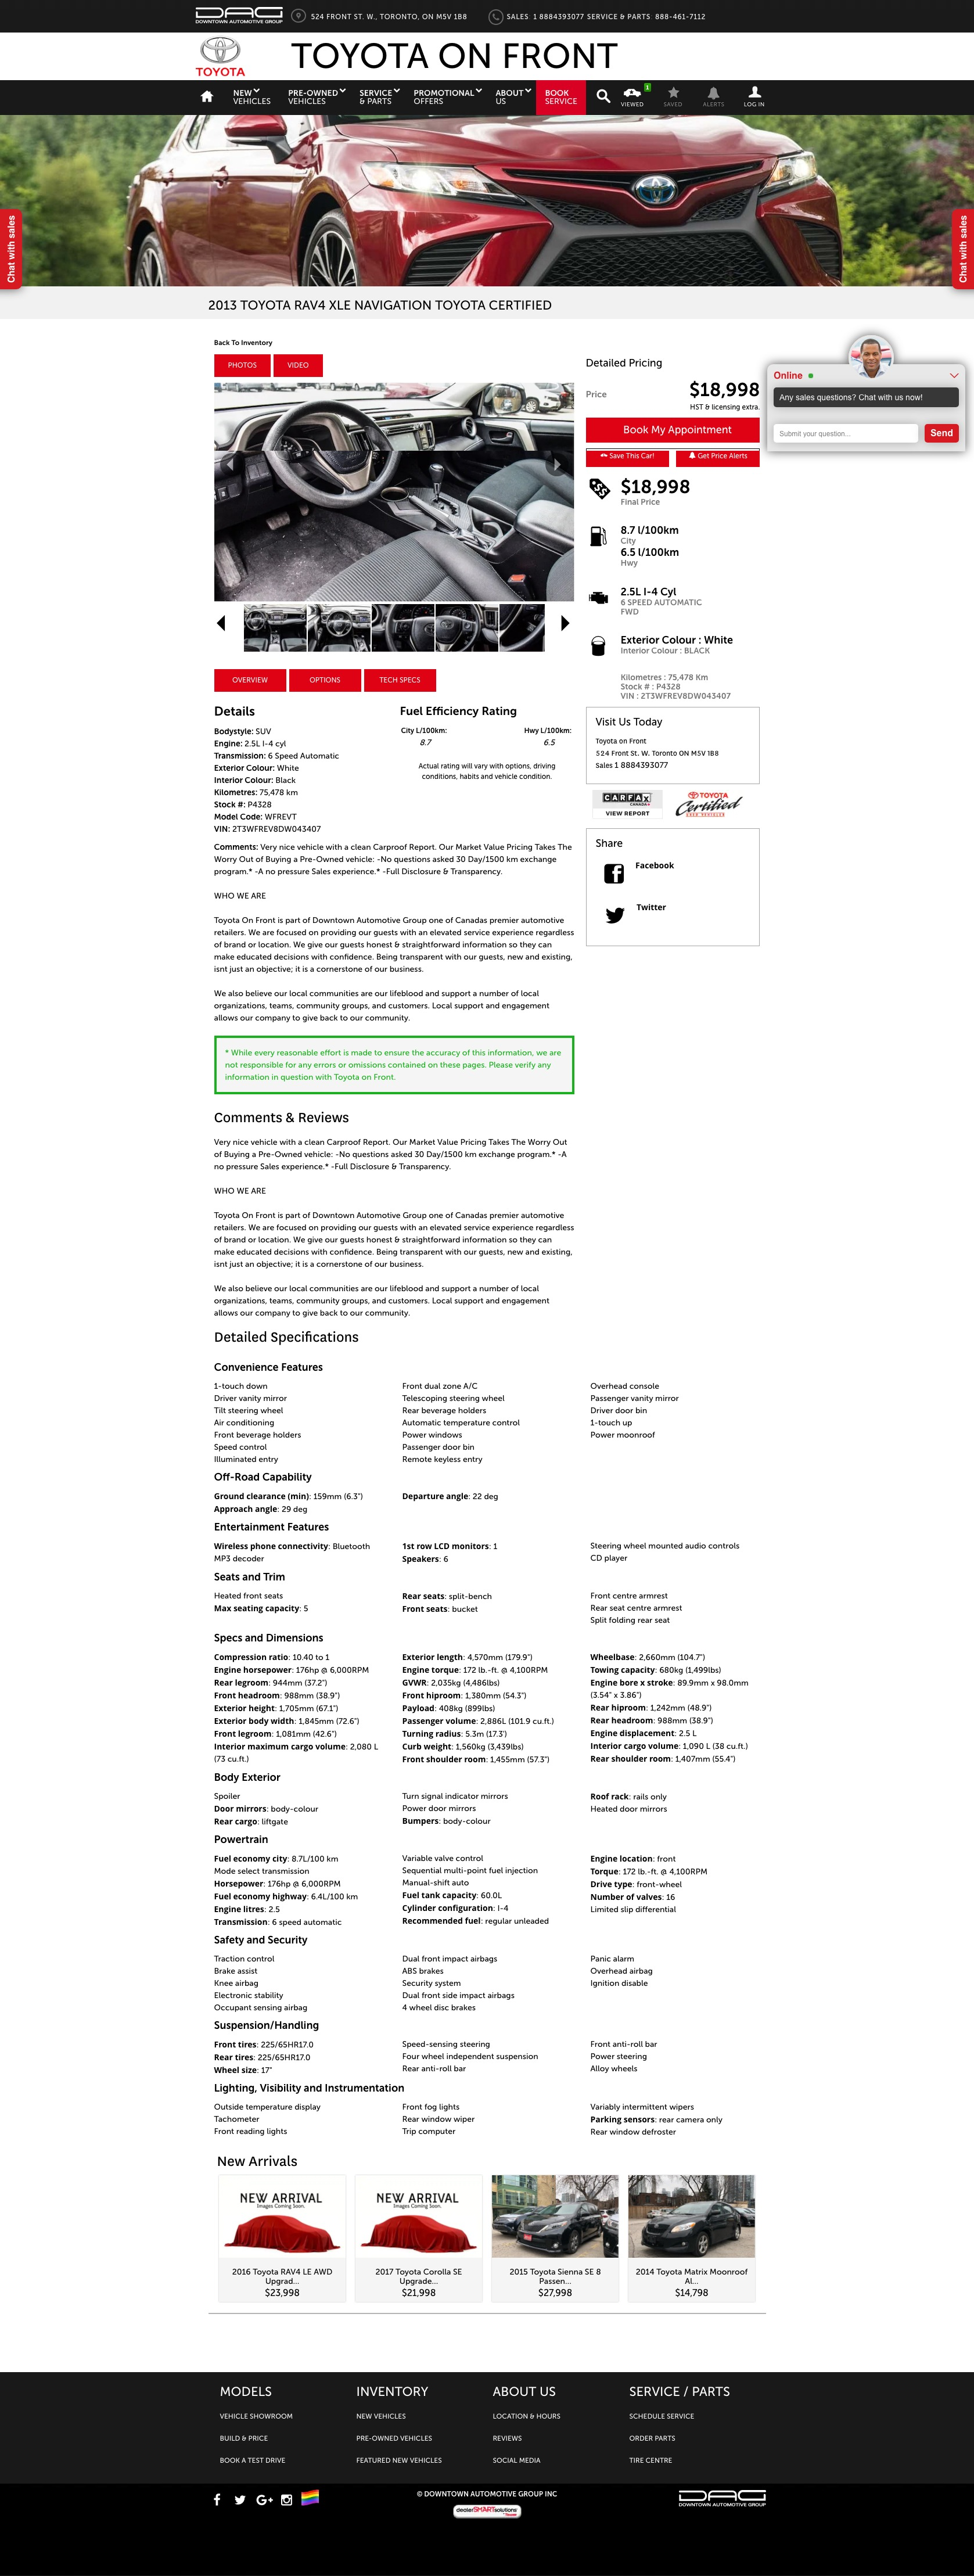car: (562, 614, 572, 633)
